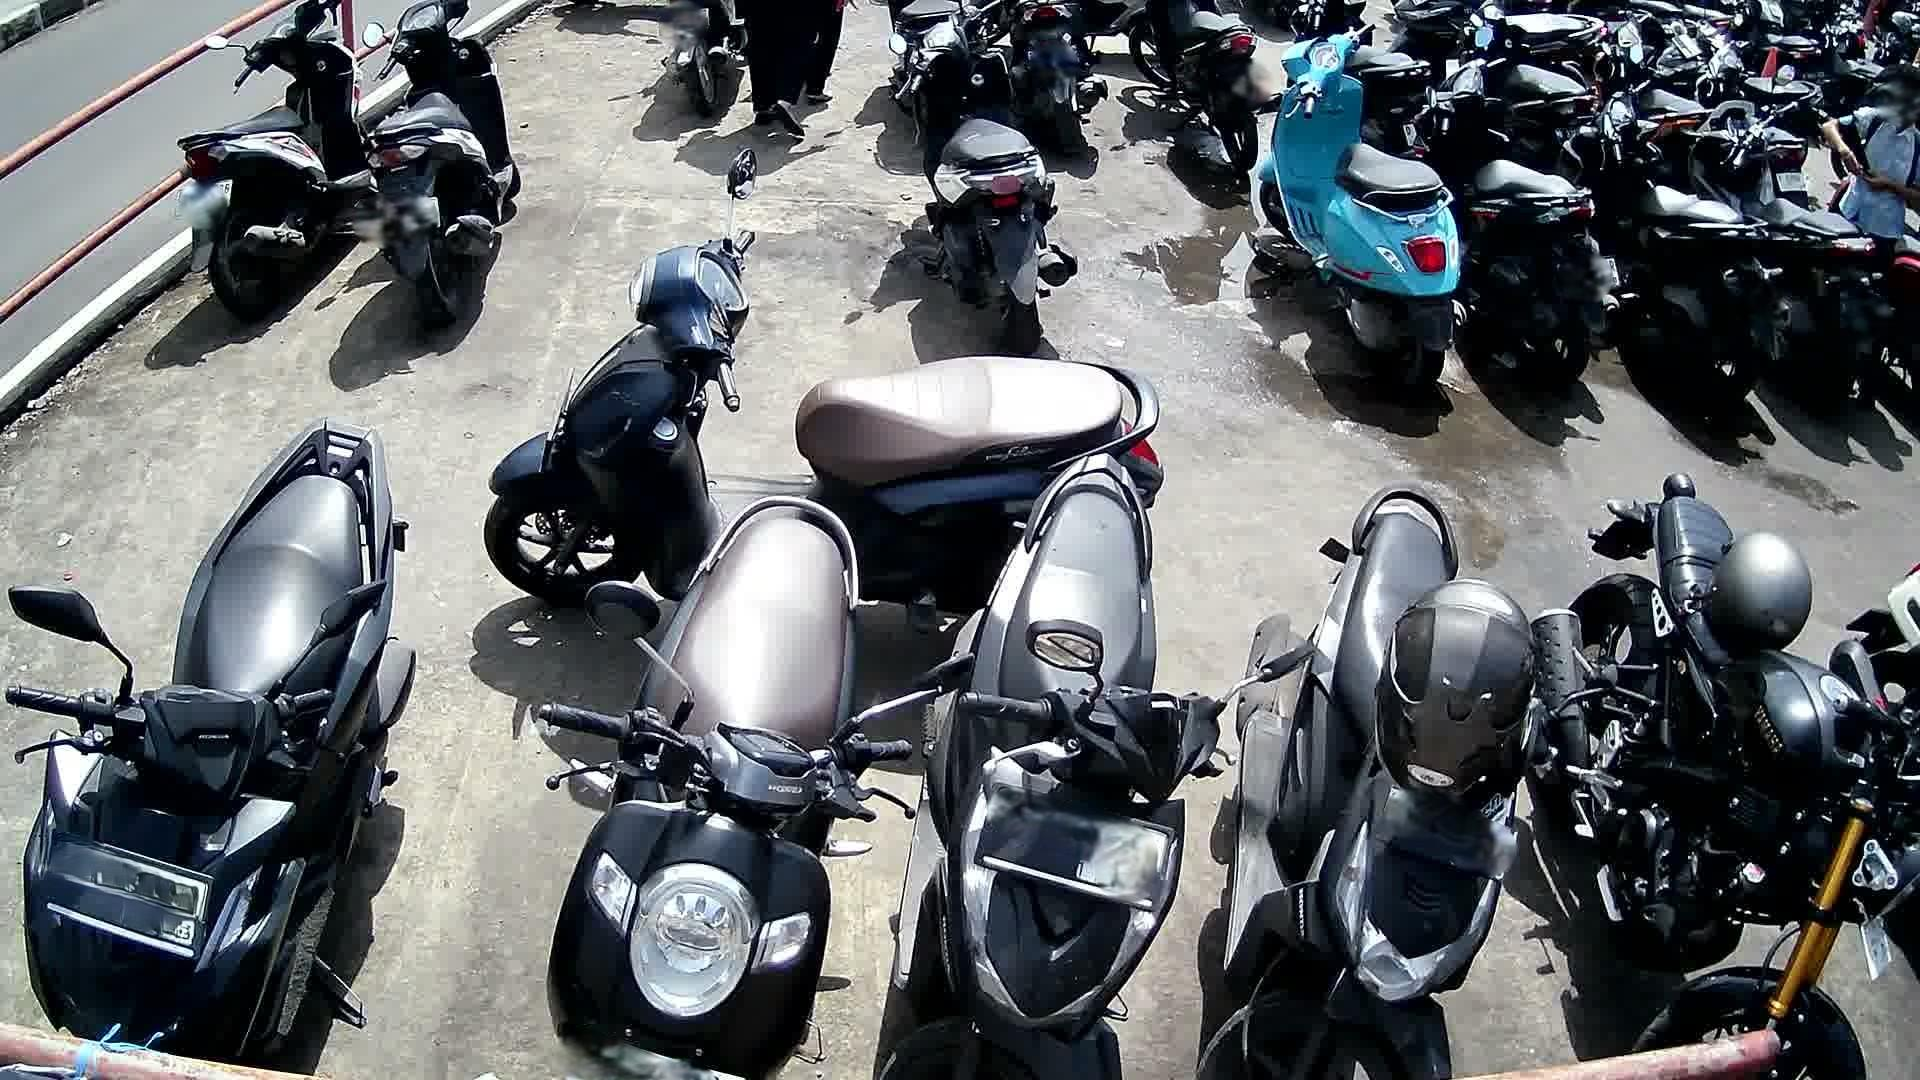motorcycle: (480, 148, 1163, 609), (872, 454, 1313, 1080), (7, 422, 415, 1080), (539, 493, 973, 1080), (1200, 488, 1618, 1080), (1528, 475, 1920, 1080), (1548, 42, 1795, 404), (1403, 25, 1622, 397), (1251, 21, 1468, 396), (1668, 66, 1891, 413), (887, 0, 1079, 352), (175, 0, 378, 318), (363, 0, 520, 326)
